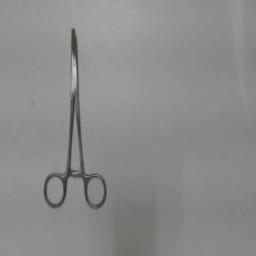Crile Artery Forceps: (39, 24, 111, 216)
